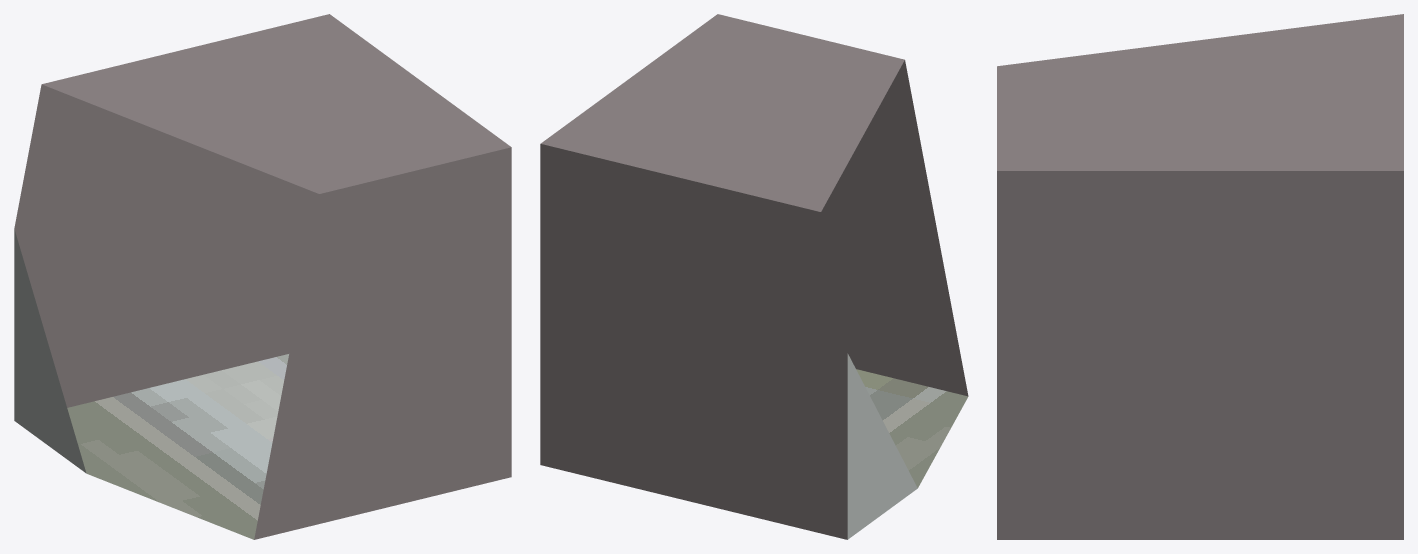
Rendered from 054_lowrise2Wall_cell_005.gltf.
The picture shows the model from 3 angles, left to right: view 1: azimuth 30°, elevation 25°; view 2: azimuth 150°, elevation 25°; view 3: azimuth 270°, elevation 25°; orthographic projection. The views are drawn at different scales.
Visible parts, largest first — view 1: lowrise2Wall_cell_005; view 2: lowrise2Wall_cell_005; view 3: lowrise2Wall_cell_005.
Part boxes in pixels (x1,y1,x2,y2): lowrise2Wall_cell_005: (14,14,511,539); lowrise2Wall_cell_005: (540,14,968,539); lowrise2Wall_cell_005: (997,14,1403,539).
Bounding box in the file's own units: 0.456 × 0.456 × 0.456.
Materials: 1 (1 with a texture image).
